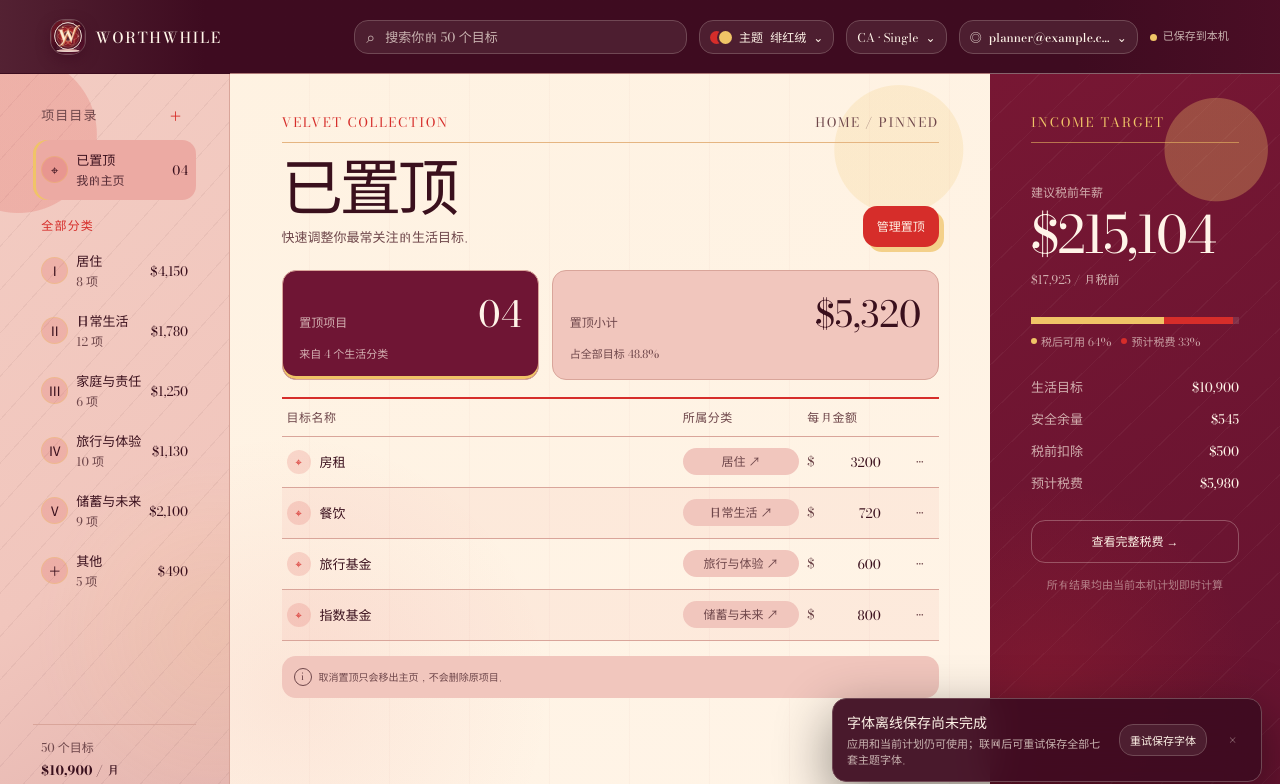
Scenario: local-first planner › flushes a pending local edit before signing out and clearing the account cache
Expected: the text "已保存到本机" is shown, x1=1150 y1=30 x2=1229 y2=44
Replace the text in the number field named "房租每月金额" with "4321" at (856,462), box x1=814 y1=451 x2=898 y2=473
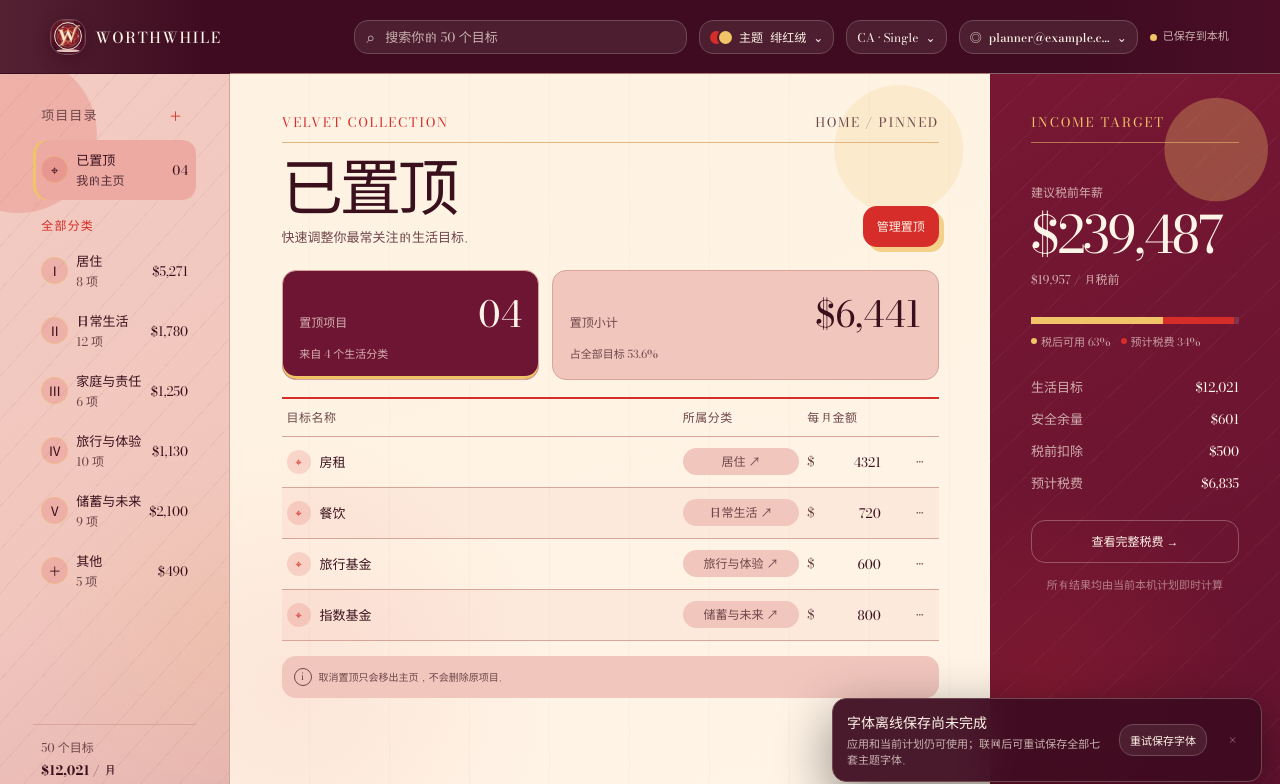
Click the button "◎ planner@example.com ⌄".
click(1048, 37)  # box x1=959 y1=20 x2=1138 y2=54
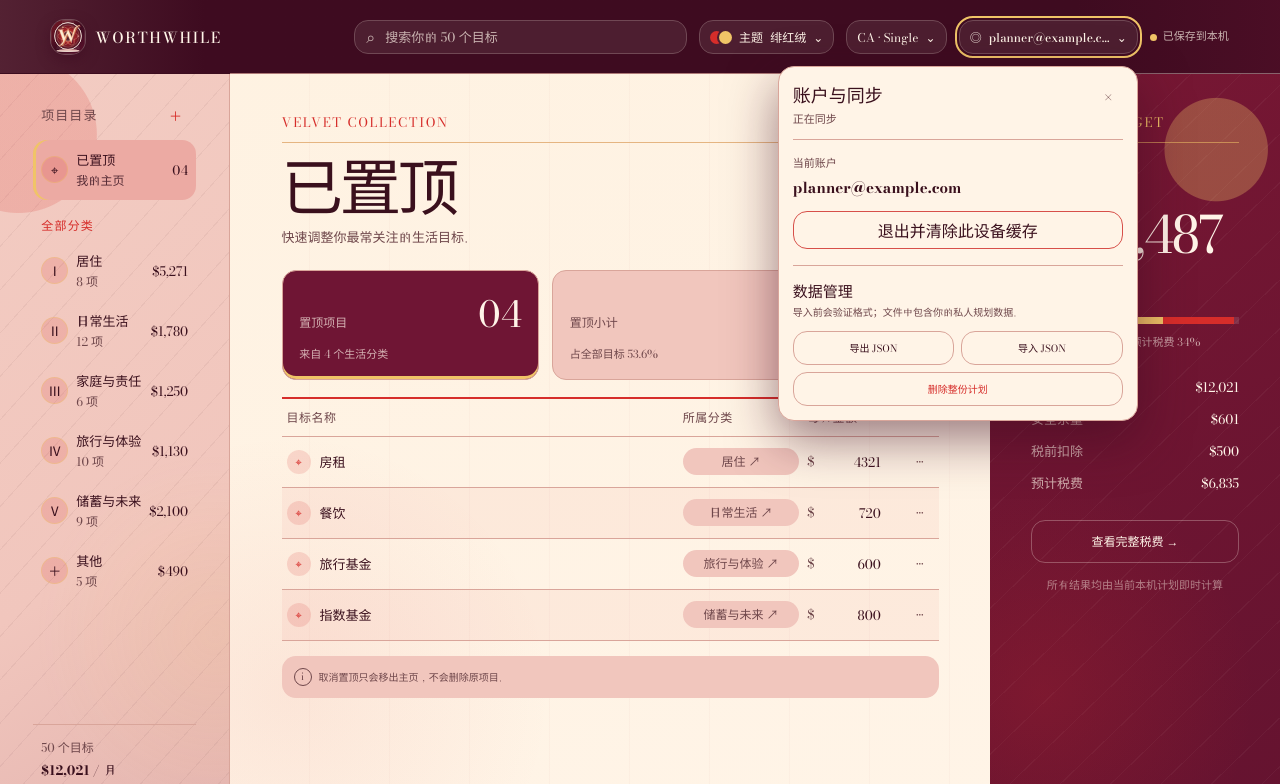
Click the button "退出并清除此设备缓存".
click(958, 230)  # box x1=793 y1=211 x2=1123 y2=249
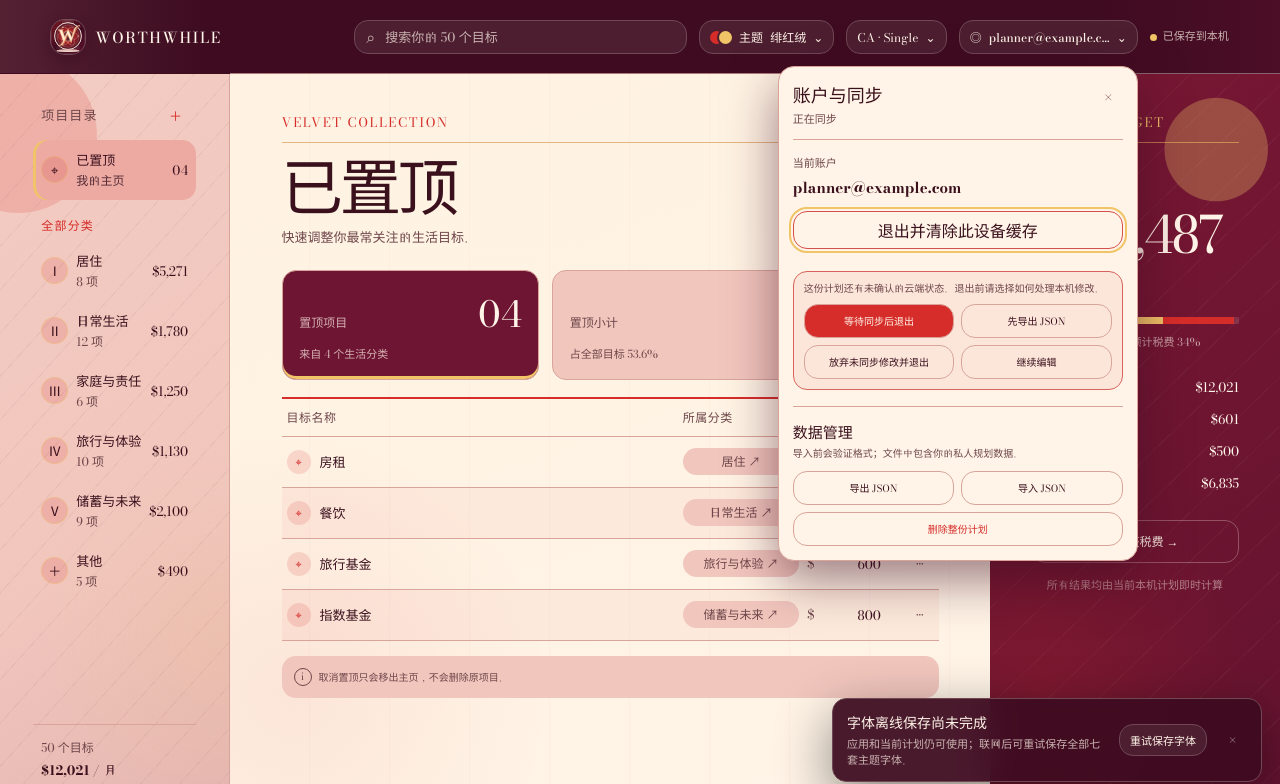
Click the button "等待同步后退出".
click(879, 321)  # box x1=804 y1=304 x2=954 y2=338
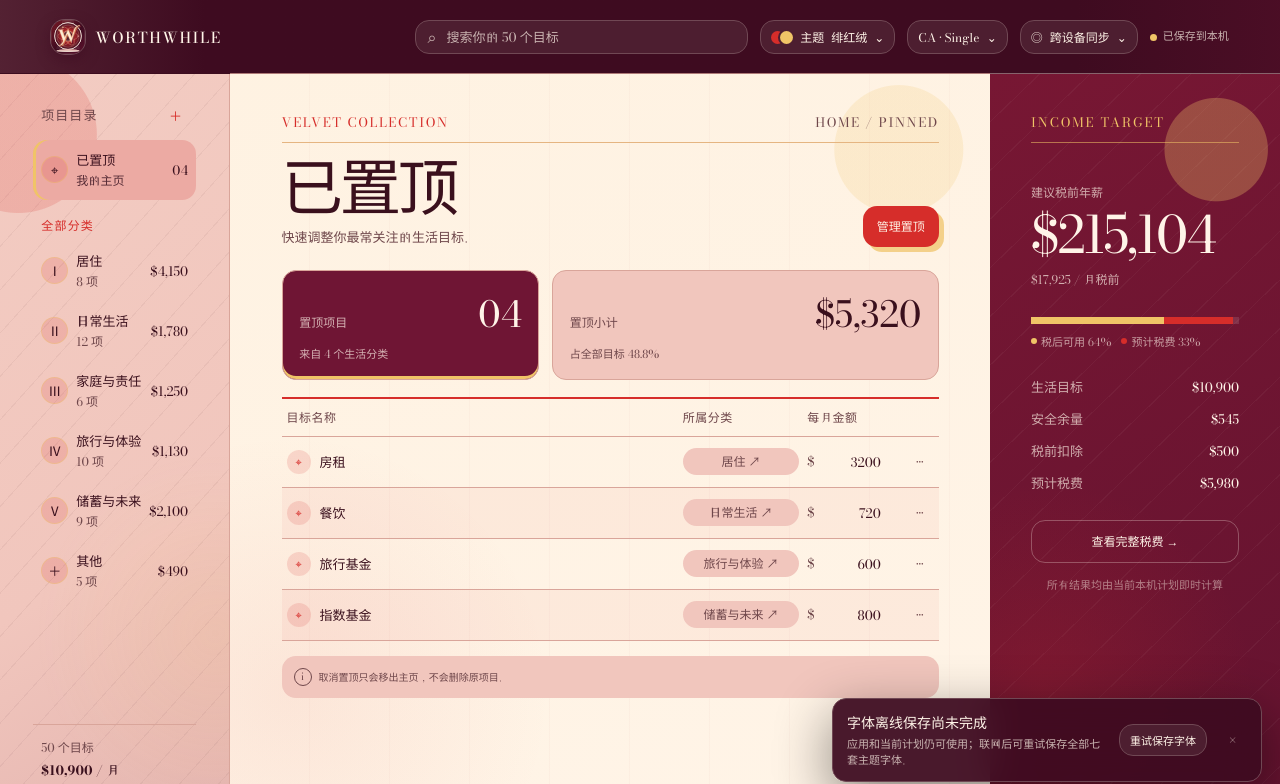
Expected: the button "◎ 跨设备同步 ⌄" is shown, x1=1020 y1=20 x2=1138 y2=54
